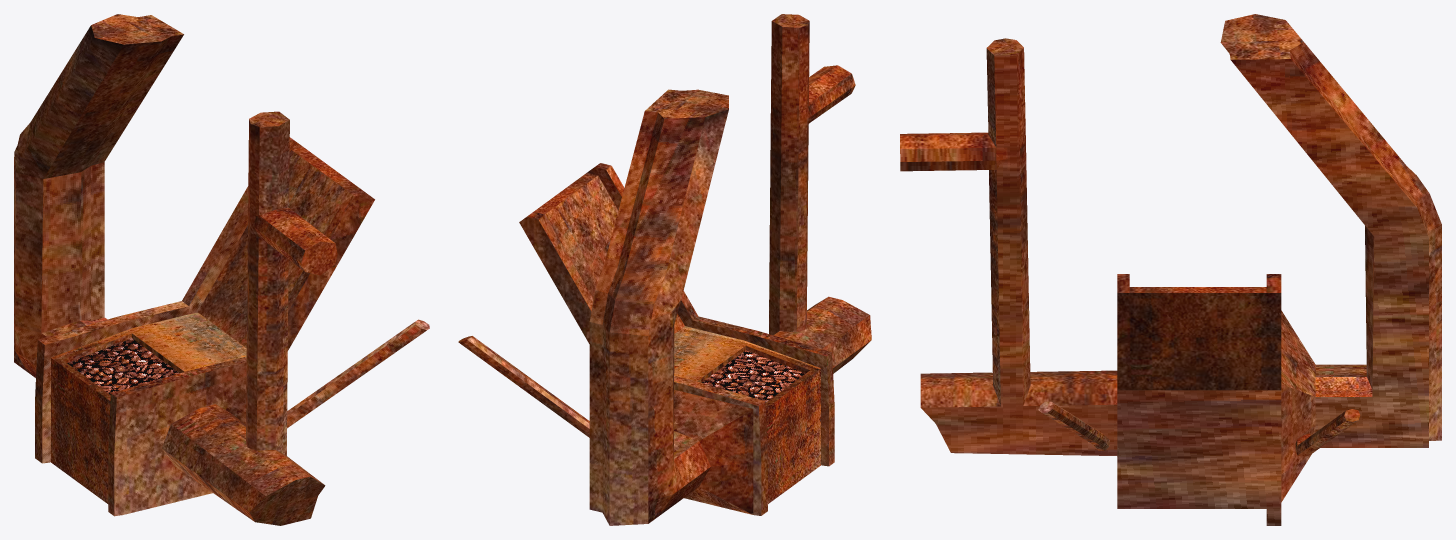
File: coffeEngine.glb
3 renders of one model, left to right at view 1: azimuth 30°, elevation 25°; view 2: azimuth 150°, elevation 25°; view 3: azimuth 270°, elevation 25°, orthographic. The views are drawn at different scales.
Parts seen in each view (by area): view 1: motor; view 2: motor; view 3: motor.
Boxes of the visible parts, x1,y1,x2,y2 form: motor: (14, 14, 429, 525); motor: (458, 14, 871, 525); motor: (900, 14, 1441, 525).
Size of the model in its own units: 3.97 by 5.68 by 6.17.
1 material, 1 textured.
